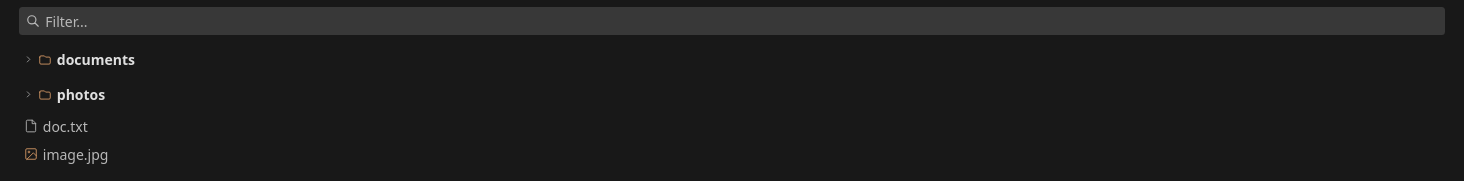
Test: FileTree › filters items by query
Expected: the text "image.jpg" is shown, [43,144,108,164]
Step 1. Type "image" into the field with placeholder "Filter..." → (742, 21), box [45,10,1438,32]
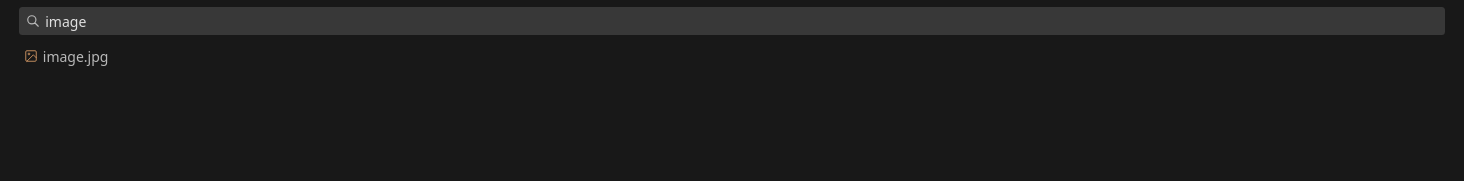
Expected: the text "image.jpg" is shown, [43,46,108,66]
Result: the list item "doc.txt" is gone
Result: the button "documents" is gone
